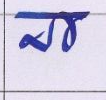aa_matra: (63, 22, 72, 50)
